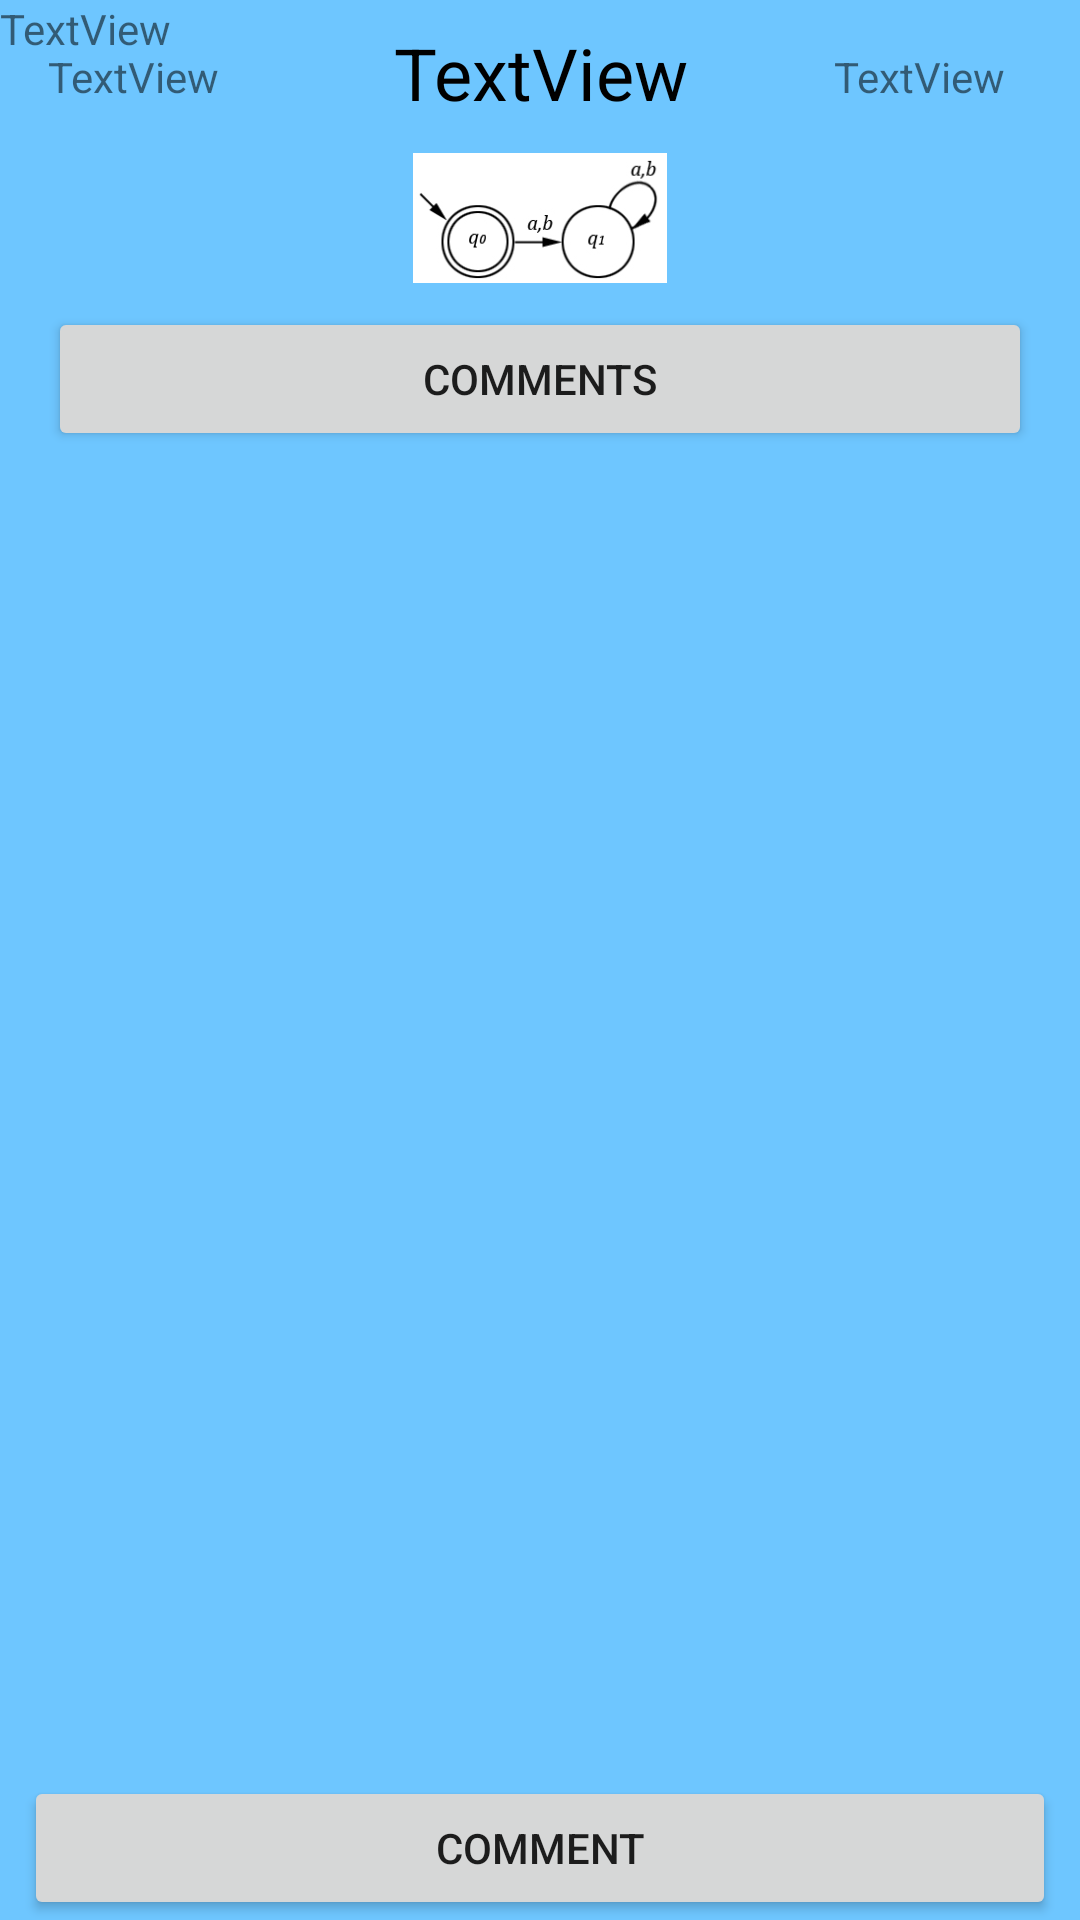

Screen size 1080*1920. Icon name, then its box in pixels as (x1, y1, x2, y2):
automat: (413, 153, 667, 283)
